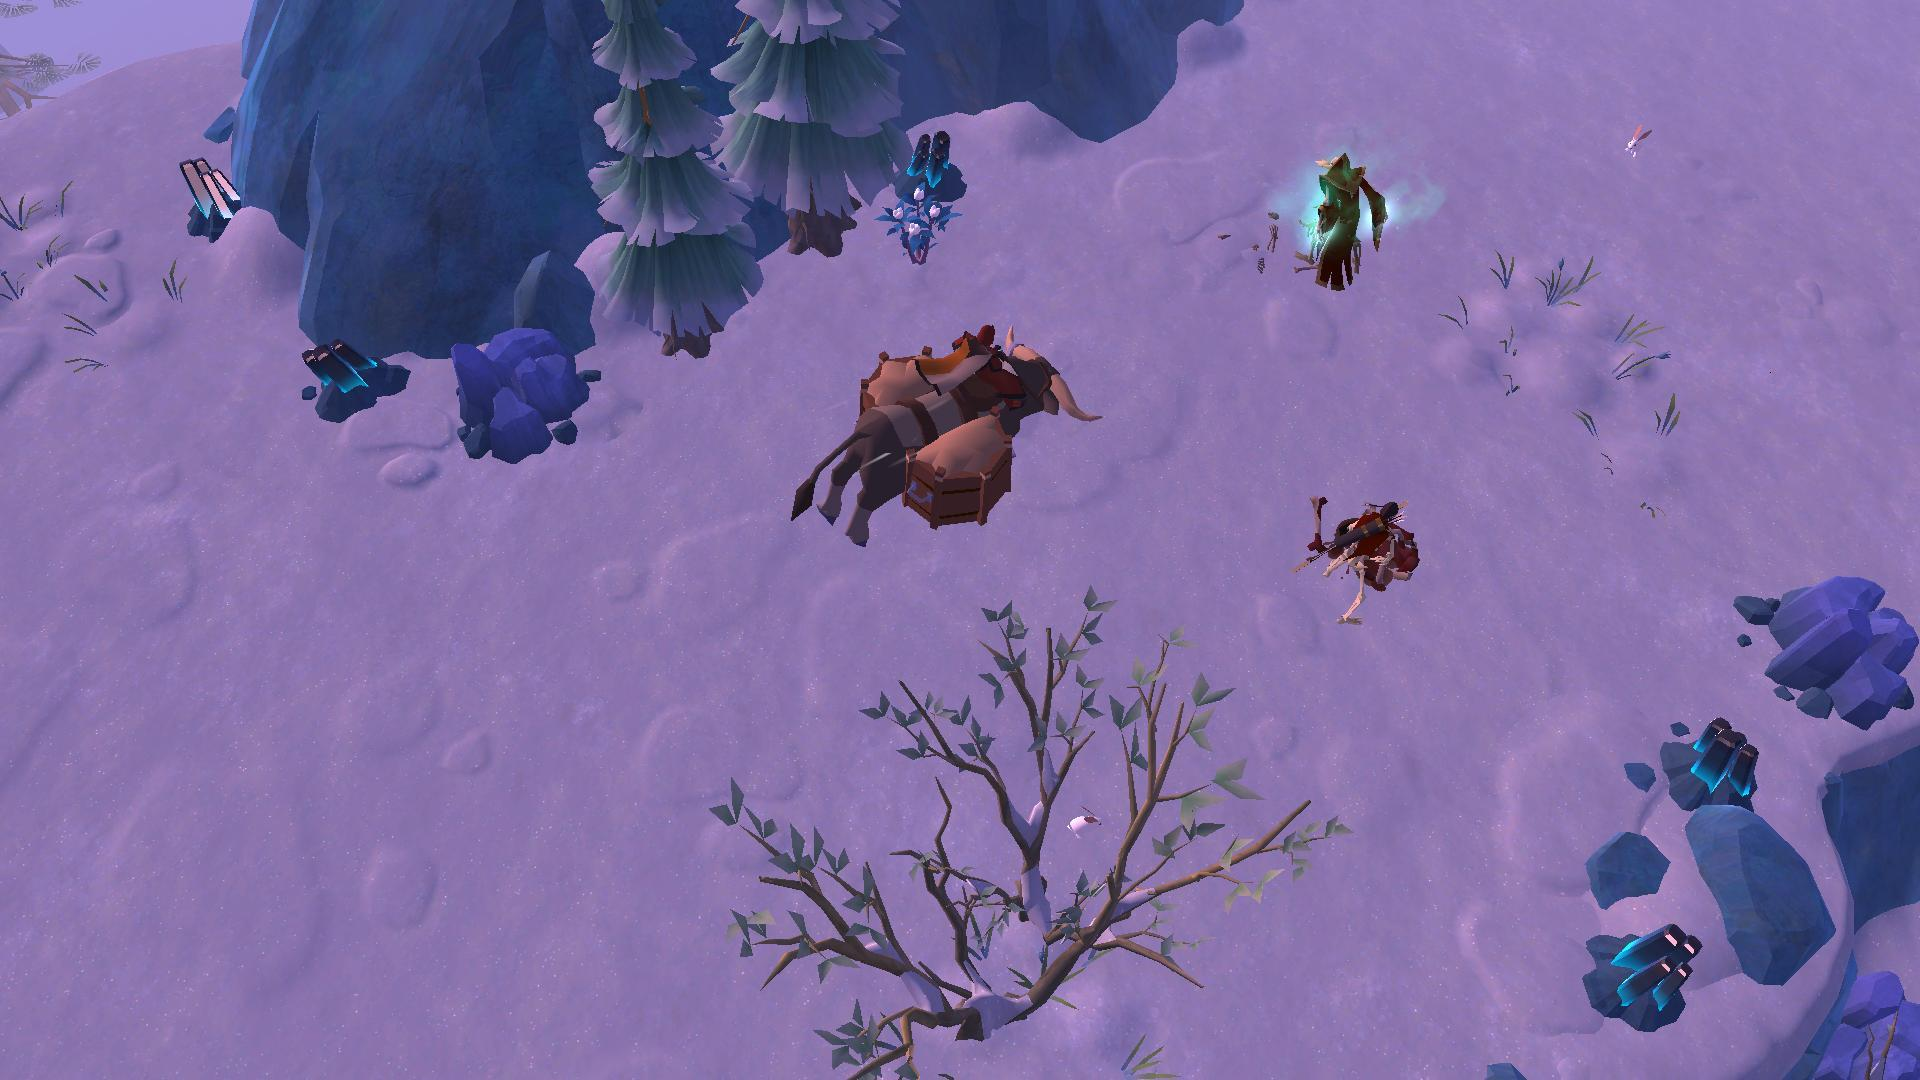enemy_factionUndead: (1298, 148, 1393, 290)
ore_t4: (1605, 916, 1705, 1031), (1692, 715, 1758, 812), (297, 336, 386, 406), (179, 158, 237, 225), (907, 128, 956, 181)
rock_t4: (1741, 570, 1920, 729), (438, 332, 603, 458), (1826, 965, 1920, 1080)
